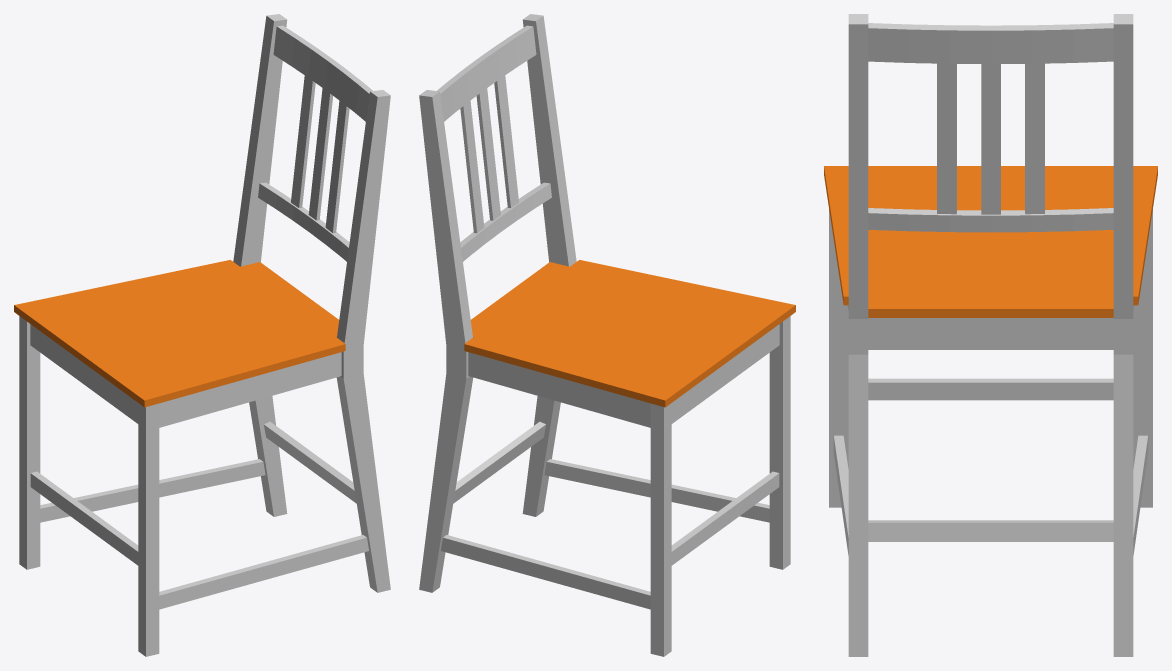
The model's file is Chair_Simple_B.FBX.
3 renders of one model, left to right at view 1: azimuth 30°, elevation 25°; view 2: azimuth 150°, elevation 25°; view 3: azimuth 270°, elevation 25°, orthographic. The views are drawn at different scales.
Visible parts, largest first — view 1: Chair_Simple_B; view 2: Chair_Simple_B; view 3: Chair_Simple_B.
Part boxes in pixels (<box>): Chair_Simple_B: <box>14,14,390,656</box>; Chair_Simple_B: <box>419,14,795,656</box>; Chair_Simple_B: <box>824,14,1157,656</box>.
Bounding box in the file's own units: 0.752 × 1.39 × 0.6641.
